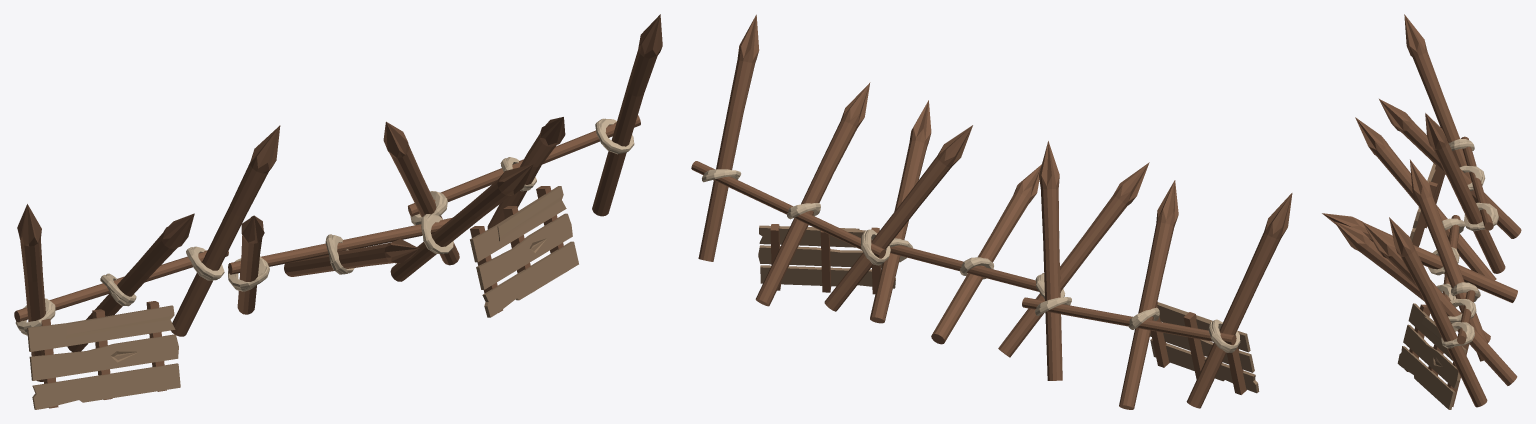
Rendered from SM_spike_barrier.fbx.
The picture shows the model from 3 angles, left to right: view 1: azimuth 30°, elevation 25°; view 2: azimuth 150°, elevation 25°; view 3: azimuth 270°, elevation 25°; orthographic projection. The views are drawn at different scales.
Parts seen in each view (by area): view 1: spike_barrier; view 2: spike_barrier; view 3: spike_barrier.
Boxes of the visible parts, bbox=[...] form: spike_barrier: bbox=[14, 14, 662, 409]; spike_barrier: bbox=[691, 14, 1292, 409]; spike_barrier: bbox=[1322, 14, 1521, 409].
Bounding box in the file's own units: 505 × 203 × 172.
